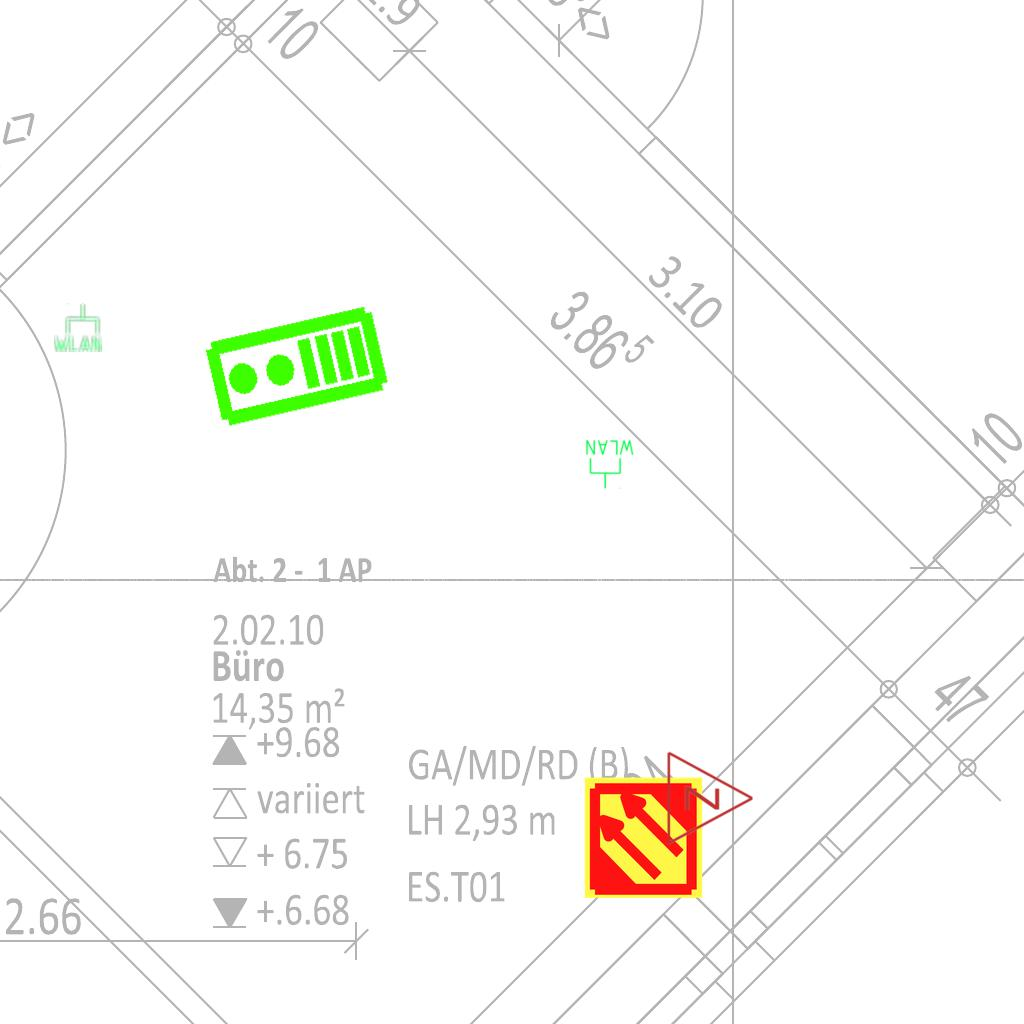ASR_Ansaugrauchmelder: (581, 775, 706, 900)
Gegensprechanlage_mit_Video: (200, 301, 393, 435)
WLAN: (52, 302, 104, 354), (584, 438, 636, 490)
Zimmersignalleuchte: (660, 748, 760, 846)
